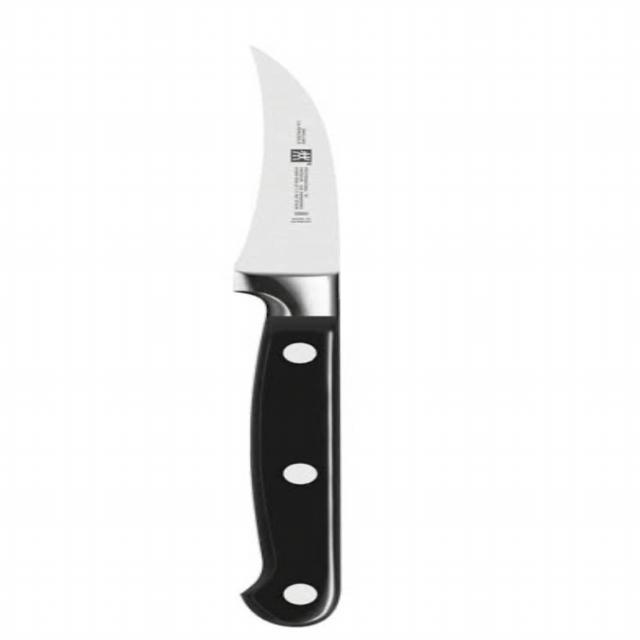Knife: (180, 28, 398, 640)
